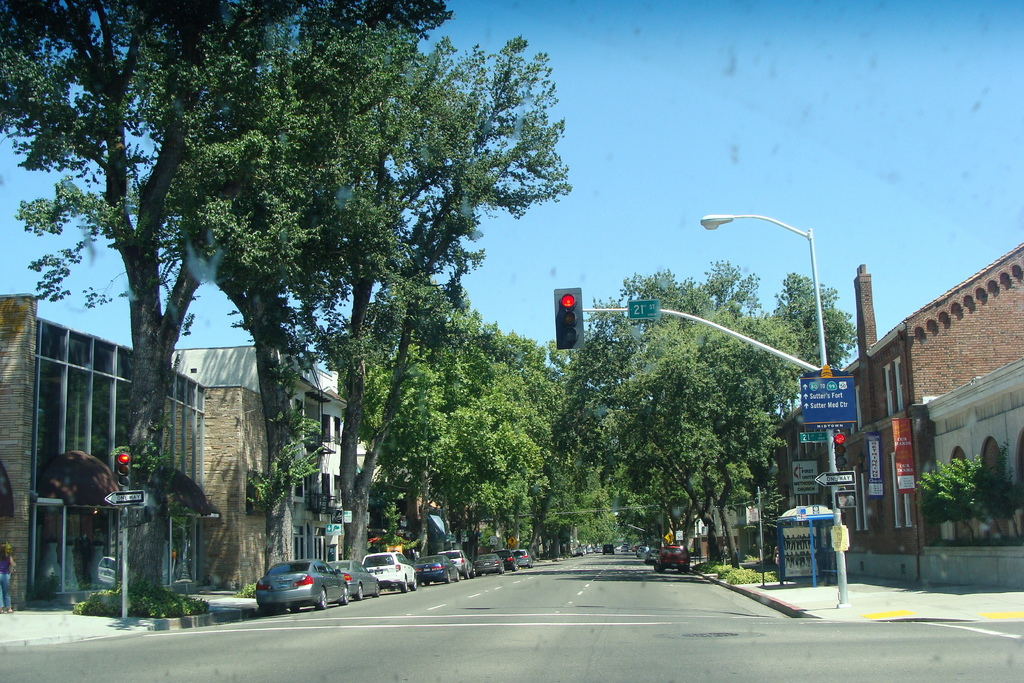red_light: (559, 291, 577, 307), (114, 450, 132, 466), (833, 432, 847, 445)
